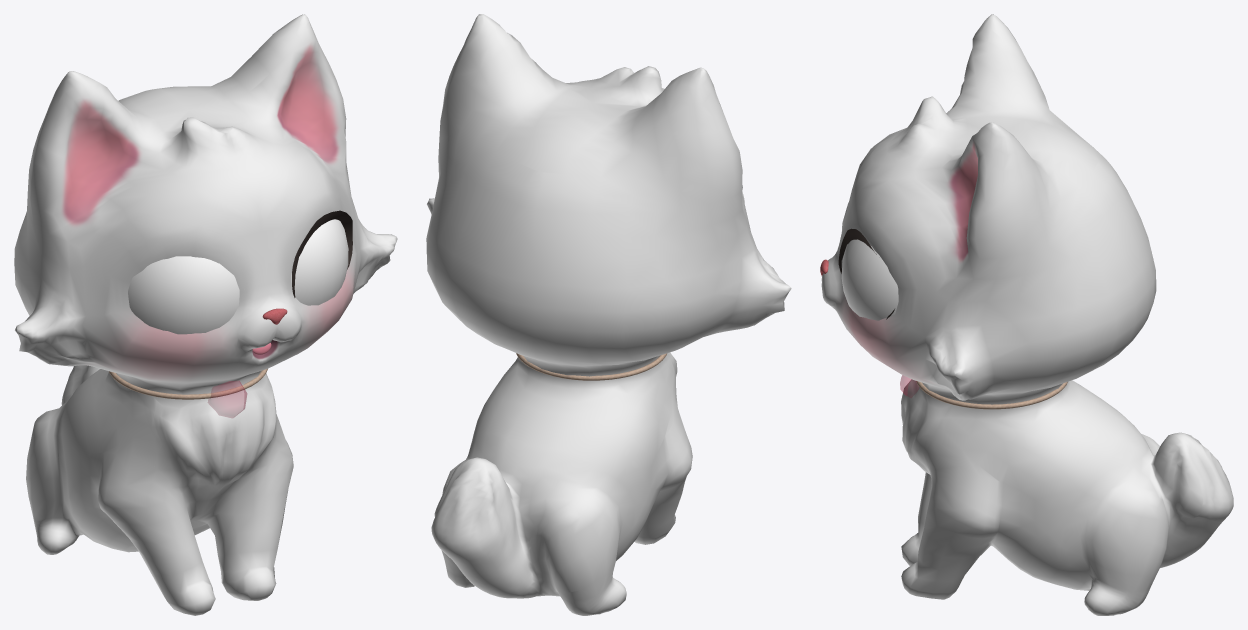
The picture shows the model from 3 angles, left to right: view 1: azimuth 30°, elevation 25°; view 2: azimuth 150°, elevation 25°; view 3: azimuth 270°, elevation 25°; orthographic projection. The views are drawn at different scales.
Parts seen in each view (by area): view 1: Body, Right Eye, Left Eye, Gem, Collar, Lashes; view 2: Body, Collar; view 3: Body, Left Eye, Collar.
Part boxes in pixels (<box>): Body: <box>14,14,397,615</box>; Right Eye: <box>128,256,239,334</box>; Left Eye: <box>291,219,348,305</box>; Gem: <box>208,381,246,417</box>; Collar: <box>109,368,267,399</box>; Lashes: <box>292,210,352,297</box>; Body: <box>426,14,791,615</box>; Collar: <box>516,353,666,380</box>; Body: <box>821,14,1233,615</box>; Left Eye: <box>841,239,898,320</box>; Collar: <box>916,381,1067,409</box>.
Bounding box in the file's own units: 0.3925 × 0.5322 × 0.3872.
Materials: 7 (3 with a texture image).
